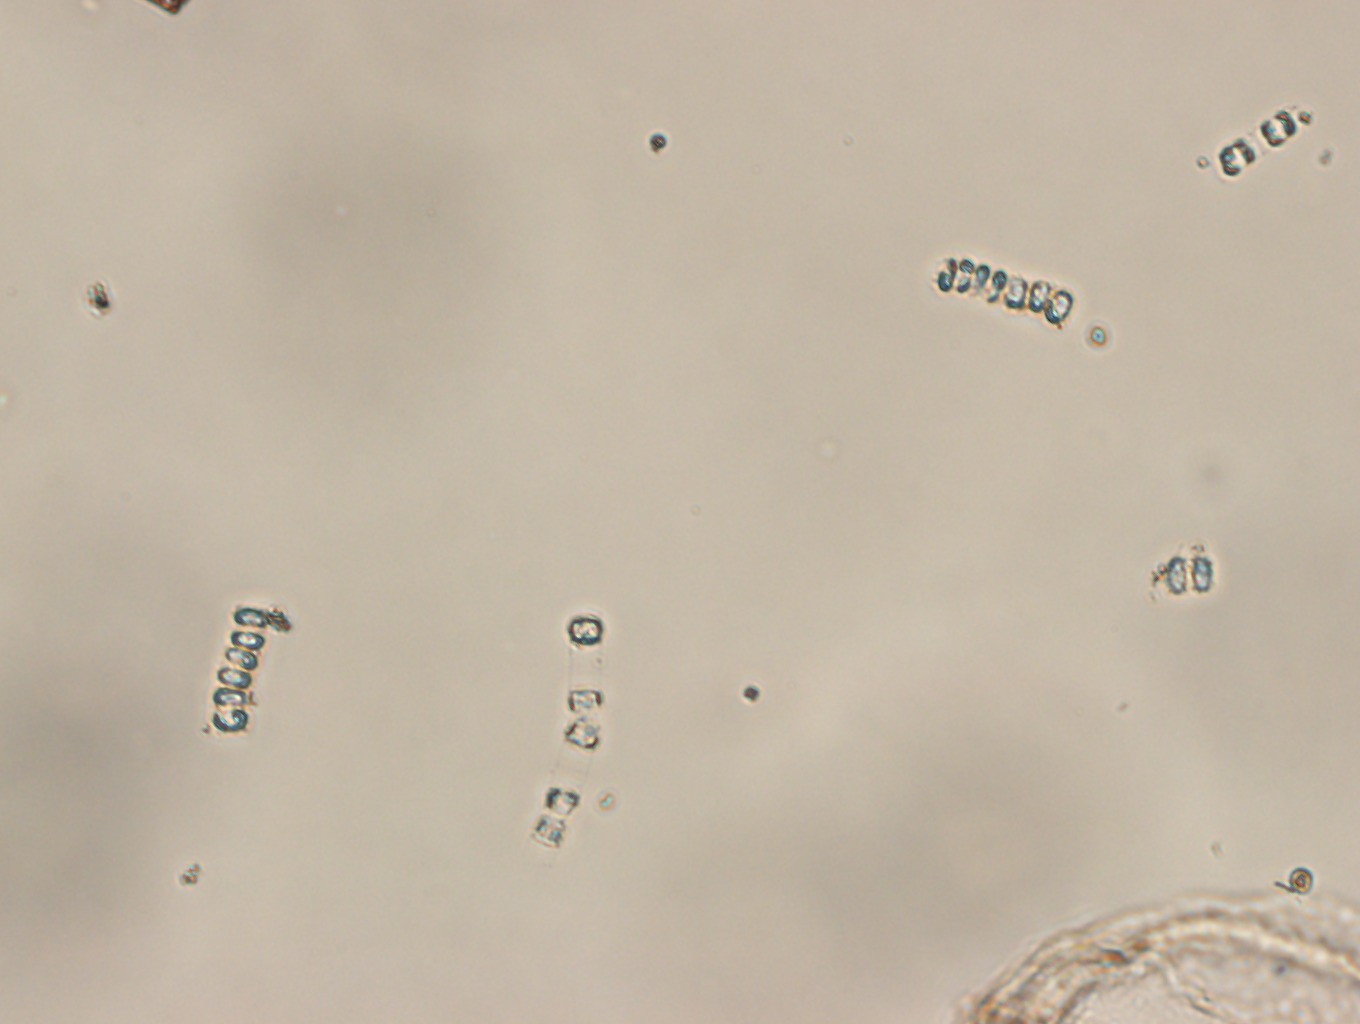skeletonema: (535, 614, 603, 852), (931, 255, 1076, 330), (210, 605, 272, 734), (1215, 102, 1314, 180)
